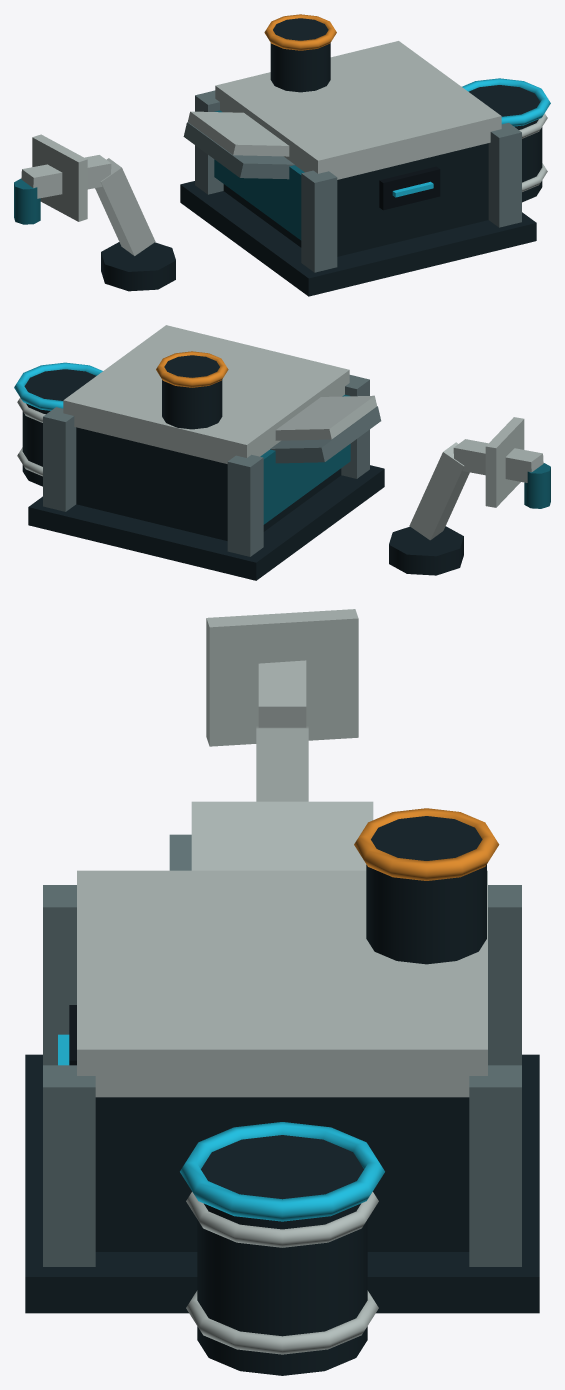
File: afr_01_seed_foundry_d0_lod2.glb
3 views of the same model, one above another, from view 1: azimuth 30°, elevation 25°; view 2: azimuth 150°, elevation 25°; view 3: azimuth 270°, elevation 25° (orthographic). The views are drawn at different scales.
Parts seen in each view (by area): view 1: ARRIVAL_FOUNDRY_DISTANCE_GEOMETRY; view 2: ARRIVAL_FOUNDRY_DISTANCE_GEOMETRY; view 3: ARRIVAL_FOUNDRY_DISTANCE_GEOMETRY.
Boxes of the visible parts, x1=… form: ARRIVAL_FOUNDRY_DISTANCE_GEOMETRY: x1=14, y1=14, x2=550, y2=296; ARRIVAL_FOUNDRY_DISTANCE_GEOMETRY: x1=14, y1=325, x2=550, y2=580; ARRIVAL_FOUNDRY_DISTANCE_GEOMETRY: x1=25, y1=609, x2=539, y2=1375.
Size of the model in its own units: 9.74 by 3.03 by 4.1.
